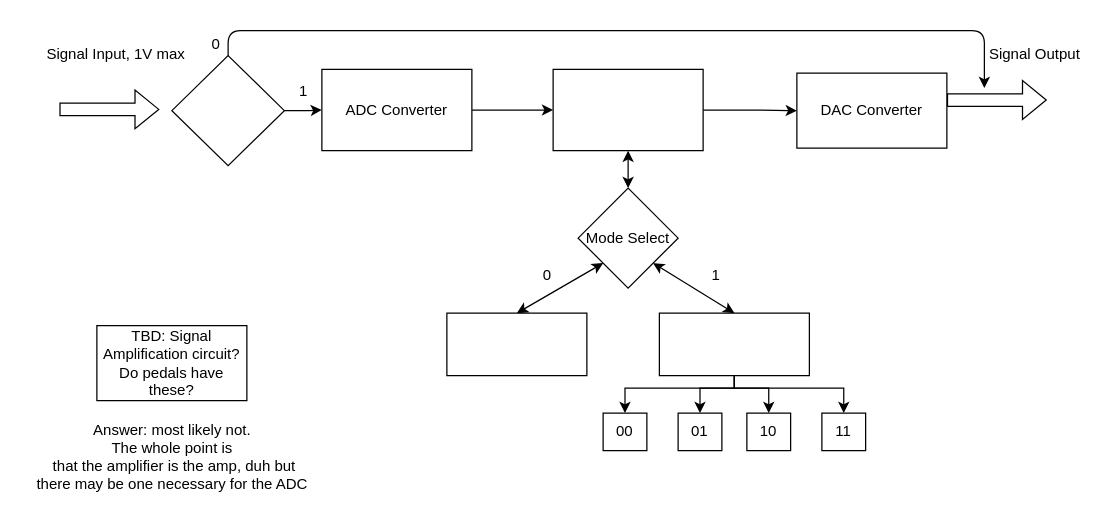
Some shapes in this 1118 by 523 pixel diagram are drawn without their labels. The shapes that lost their labels are listed below. From the top down, each one's centre as x and y in pixels, then its label:
the point at 227,110: Loop ENable
the point at 627,109: Memory
the point at 516,344: Live Looping Active low
the point at 733,344: Loop Select 1-4: Presaved loops
